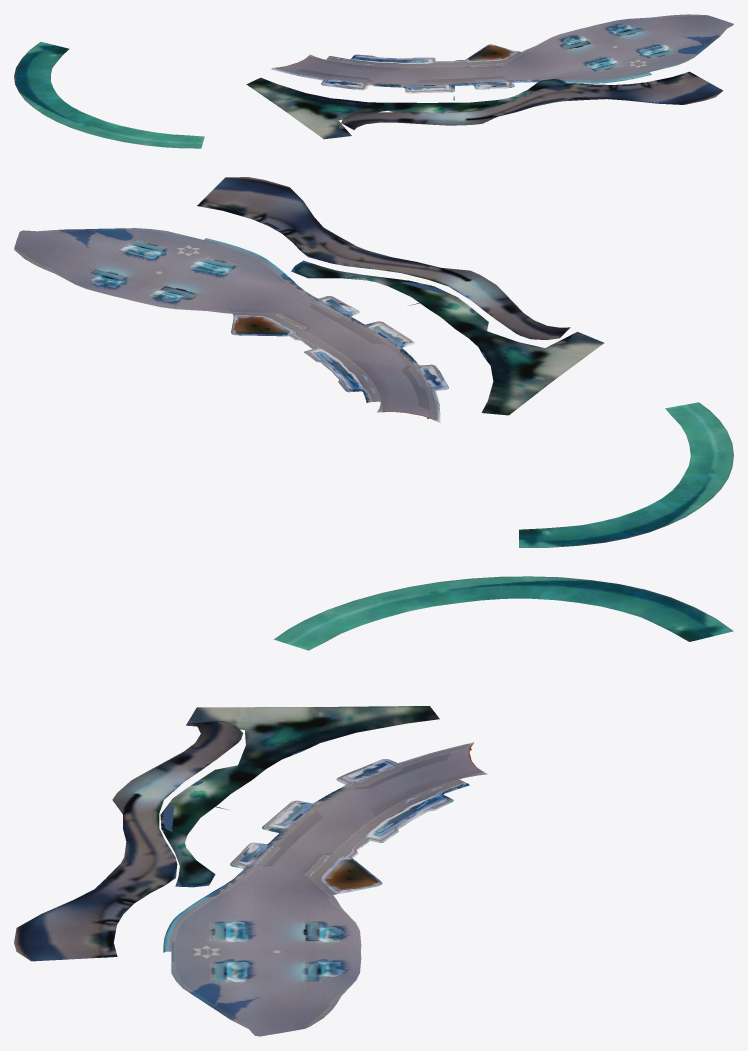
File: pref_sm_beach_tech_hunt_bk_winter_Terrains_Part_07_lv2.fbx
The picture shows the model from 3 angles, top to bottom: view 1: azimuth 30°, elevation 25°; view 2: azimuth 150°, elevation 25°; view 3: azimuth 270°, elevation 25°; orthographic projection. The views are drawn at different scales.
Parts seen in each view (by area): view 1: sm_beach_tech_hunt_bk_winter_Terrains_Part_07a_lv2, sm_beach_tech_hunt_bk_winter_Terrains_Part_07d_lv2, sm_beach_tech_hunt_bk_winter_Terrains_Part_07b_lv2, sm_beach_tech_hunt_bk_winter_Terrains_Part_07c_lv2; view 2: sm_beach_tech_hunt_bk_winter_Terrains_Part_07a_lv2, sm_beach_tech_hunt_bk_winter_Terrains_Part_07d_lv2, sm_beach_tech_hunt_bk_winter_Terrains_Part_07c_lv2, sm_beach_tech_hunt_bk_winter_Terrains_Part_07b_lv2; view 3: sm_beach_tech_hunt_bk_winter_Terrains_Part_07a_lv2, sm_beach_tech_hunt_bk_winter_Terrains_Part_07d_lv2, sm_beach_tech_hunt_bk_winter_Terrains_Part_07c_lv2, sm_beach_tech_hunt_bk_winter_Terrains_Part_07b_lv2.
Part boxes in pixels (x1,y1,x2,y2): sm_beach_tech_hunt_bk_winter_Terrains_Part_07a_lv2: [271, 14, 733, 93]; sm_beach_tech_hunt_bk_winter_Terrains_Part_07d_lv2: [341, 71, 723, 129]; sm_beach_tech_hunt_bk_winter_Terrains_Part_07b_lv2: [14, 42, 204, 148]; sm_beach_tech_hunt_bk_winter_Terrains_Part_07c_lv2: [246, 77, 565, 139]; sm_beach_tech_hunt_bk_winter_Terrains_Part_07a_lv2: [14, 228, 448, 422]; sm_beach_tech_hunt_bk_winter_Terrains_Part_07d_lv2: [197, 177, 570, 339]; sm_beach_tech_hunt_bk_winter_Terrains_Part_07c_lv2: [291, 260, 603, 415]; sm_beach_tech_hunt_bk_winter_Terrains_Part_07b_lv2: [519, 402, 733, 547]; sm_beach_tech_hunt_bk_winter_Terrains_Part_07a_lv2: [163, 742, 487, 1036]; sm_beach_tech_hunt_bk_winter_Terrains_Part_07d_lv2: [14, 721, 242, 961]; sm_beach_tech_hunt_bk_winter_Terrains_Part_07c_lv2: [160, 706, 439, 887]; sm_beach_tech_hunt_bk_winter_Terrains_Part_07b_lv2: [274, 576, 733, 650].
Bounding box in the file's own units: 130 × 1.77 × 86.42.
